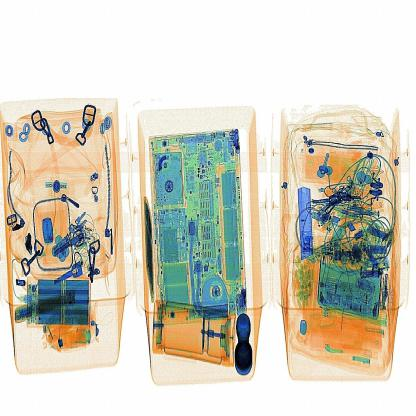pliers: (288, 180, 322, 259)
